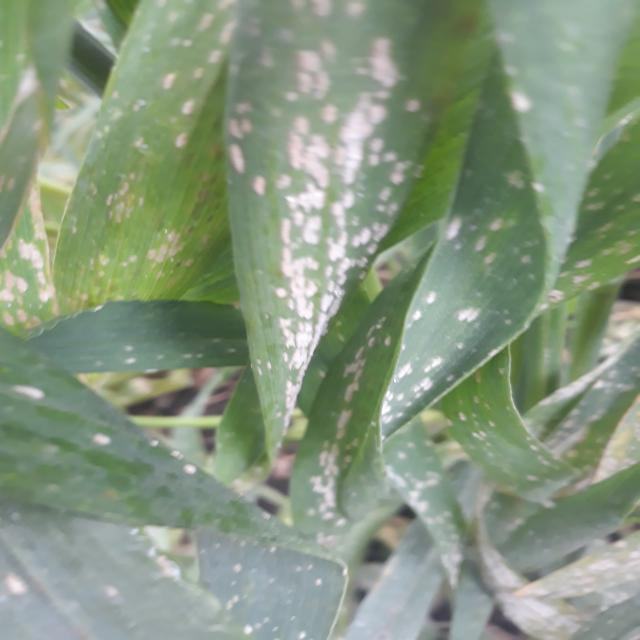powder_mildew: (204, 0, 469, 467), (0, 353, 375, 640), (0, 0, 229, 335), (482, 1, 640, 438), (383, 429, 637, 640)
